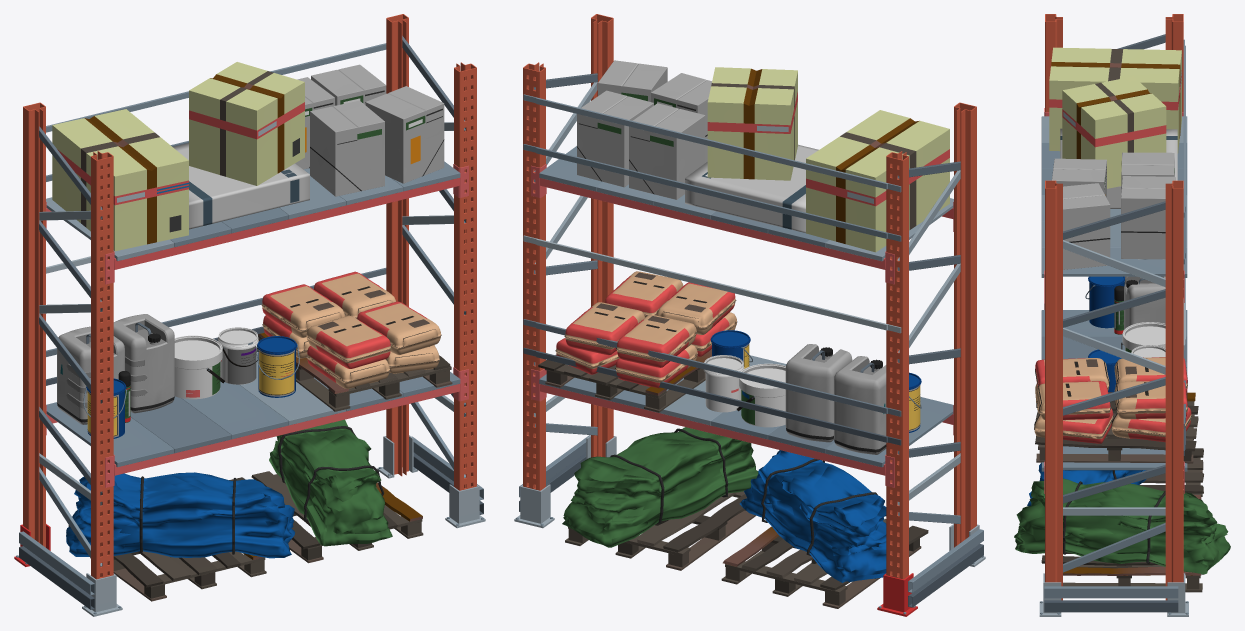
Rendered from SM_Aisle_Red_C.fbx.
3 views of the same model, side by side, from view 1: azimuth 30°, elevation 25°; view 2: azimuth 150°, elevation 25°; view 3: azimuth 270°, elevation 25° (orthographic). The views are drawn at different scales.
Parts seen in each view (by area): view 1: SM_Aisle_Red_C; view 2: SM_Aisle_Red_C; view 3: SM_Aisle_Red_C.
Boxes of the visible parts, left/top/right/bottom form: SM_Aisle_Red_C: left=14, top=14, right=485, bottom=616; SM_Aisle_Red_C: left=514, top=14, right=985, bottom=616; SM_Aisle_Red_C: left=1014, top=14, right=1230, bottom=616.
Bounding box in the file's own units: 336 × 373 × 171.
